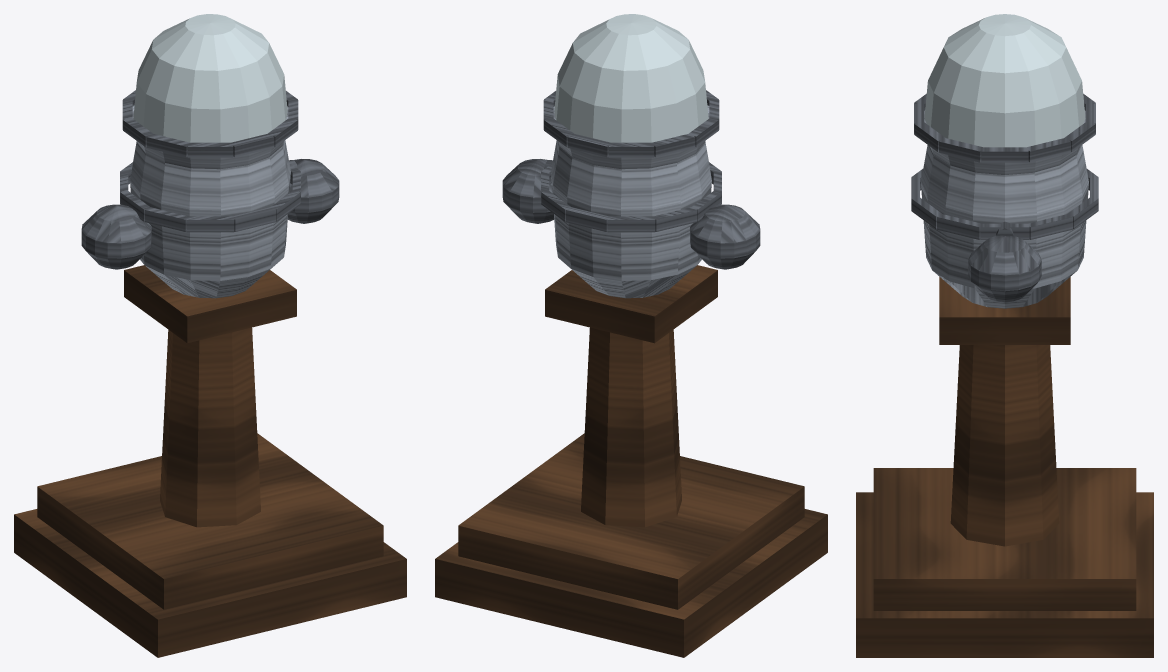
Rendered from binnacle_compass.fbx.
3 renders of one model, left to right at view 1: azimuth 30°, elevation 25°; view 2: azimuth 150°, elevation 25°; view 3: azimuth 270°, elevation 25°, orthographic. The views are drawn at different scales.
Parts seen in each view (by area): view 1: binnacle_compass; view 2: binnacle_compass; view 3: binnacle_compass.
Boxes of the visible parts, x1,y1,x2,y2 form: binnacle_compass: [14, 14, 406, 657]; binnacle_compass: [435, 14, 827, 657]; binnacle_compass: [856, 14, 1153, 657].
Bounding box in the file's own units: 34 × 72 × 34.
